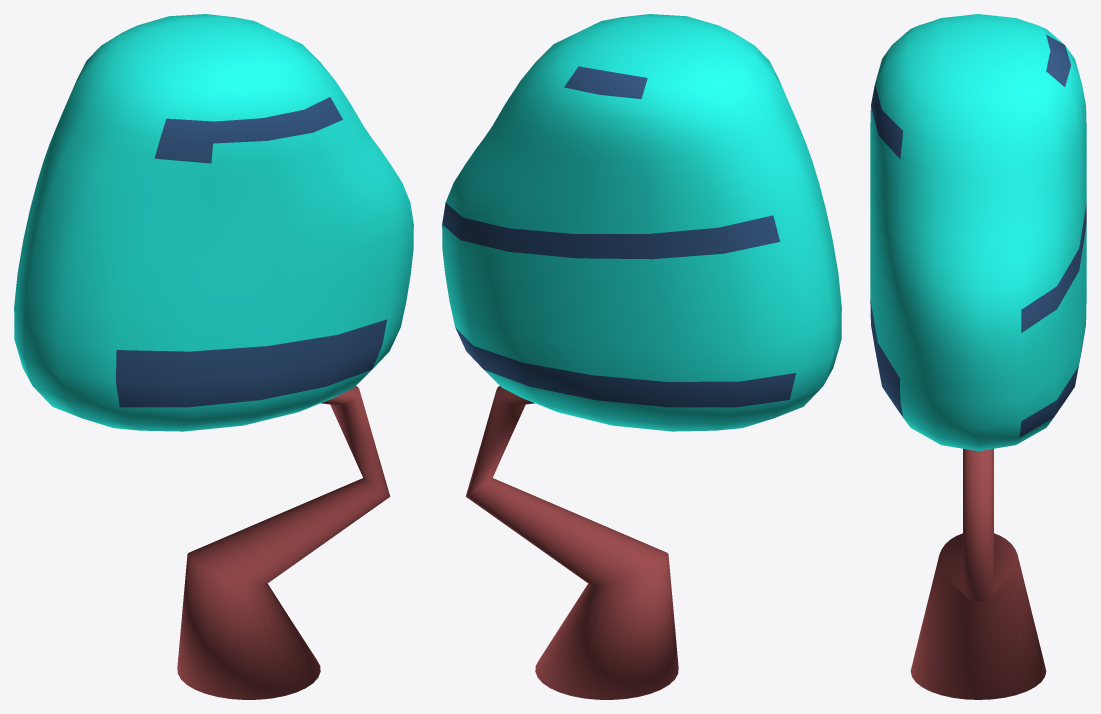
Rendered from blueplant.fbx.
The picture shows the model from 3 angles, left to right: view 1: azimuth 30°, elevation 25°; view 2: azimuth 150°, elevation 25°; view 3: azimuth 270°, elevation 25°; orthographic projection. The views are drawn at different scales.
Visible parts, largest first — view 1: Cube, Circle; view 2: Cube, Circle; view 3: Cube, Circle.
Part boxes in pixels (bbox=[...]): Cube: bbox=[14, 14, 413, 431]; Circle: bbox=[177, 386, 389, 699]; Cube: bbox=[442, 14, 841, 431]; Circle: bbox=[466, 386, 678, 699]; Cube: bbox=[870, 14, 1086, 451]; Circle: bbox=[910, 449, 1046, 699].
Size of the model in its own units: 132 by 215 by 68.93.
